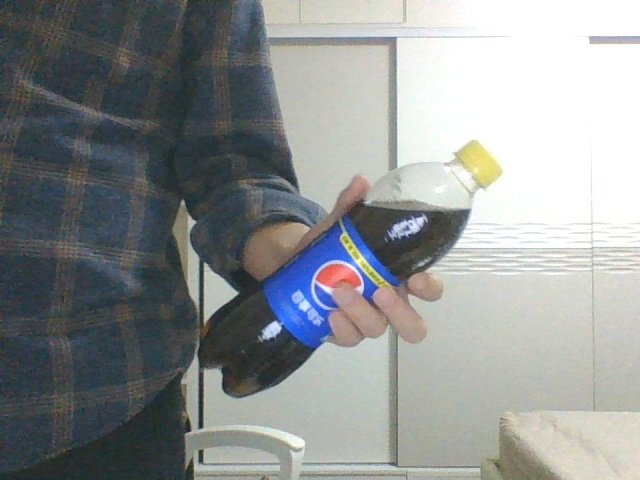Cola: (197, 142, 502, 398)
